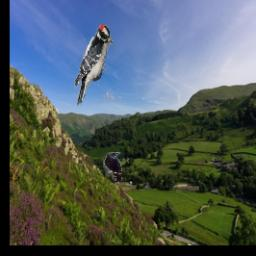Crow: (103, 152, 122, 181)
Woodpecker: (75, 25, 115, 107)
